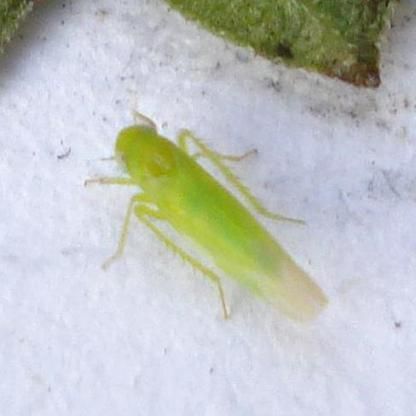green-leafhopper: (95, 116, 329, 328)
